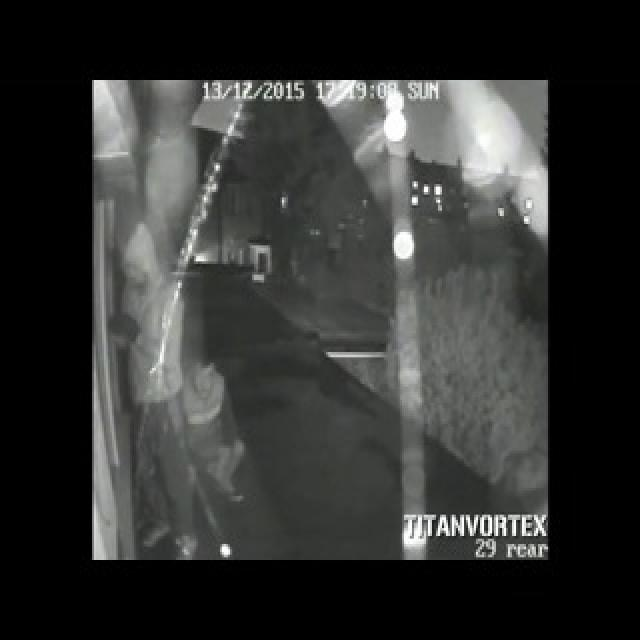thief: (114, 212, 164, 312), (183, 332, 222, 416)
